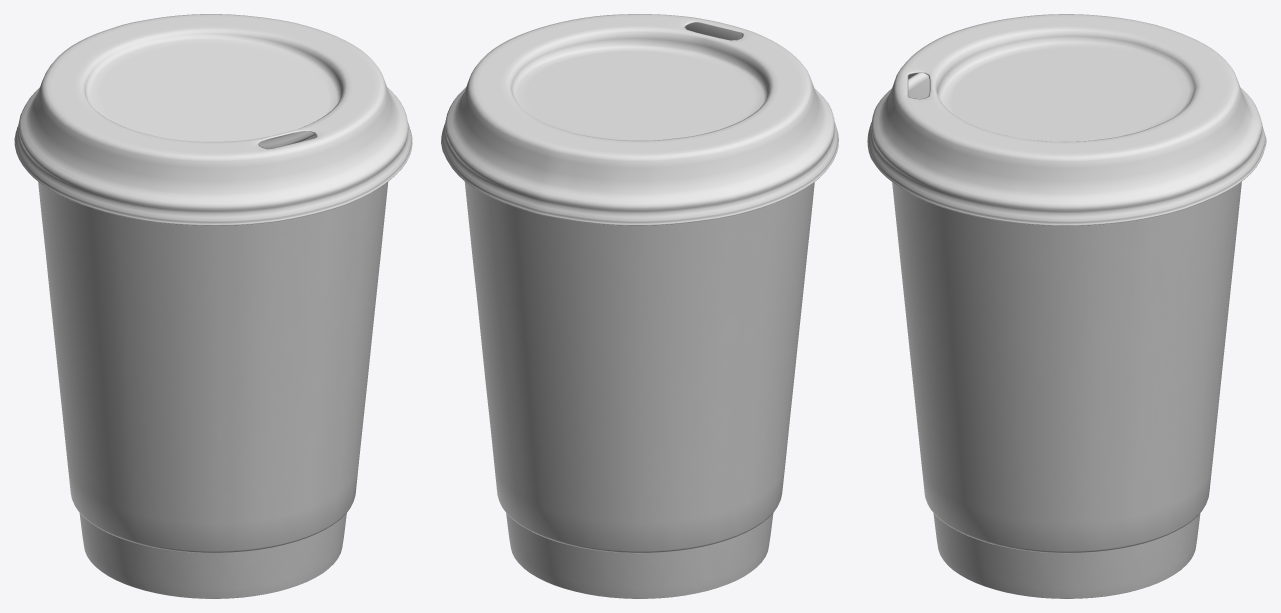
3 renders of one model, left to right at view 1: azimuth 30°, elevation 25°; view 2: azimuth 150°, elevation 25°; view 3: azimuth 270°, elevation 25°, orthographic.
Visible parts, largest first — view 1: models; view 2: models; view 3: models.
Boxes of the visible parts, left/top/right/bottom form: models: left=14, top=14, right=412, bottom=598; models: left=441, top=14, right=838, bottom=598; models: left=867, top=14, right=1266, bottom=598.
Bounding box in the file's own units: 0.0934 × 0.1186 × 0.0934.
3 materials, 2 textured.
